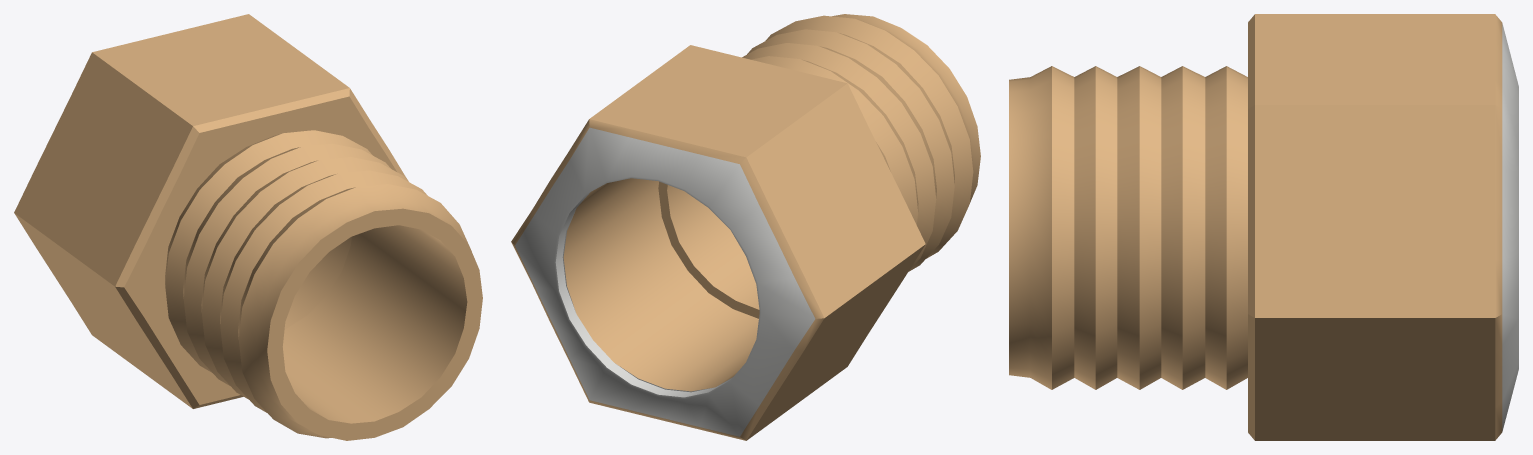
File: slab_pipes_supply__plumbing-copper_and_water-city_filter.glb
3 views of the same model, side by side, from view 1: azimuth 30°, elevation 25°; view 2: azimuth 150°, elevation 25°; view 3: azimuth 270°, elevation 25° (orthographic). The views are drawn at different scales.
Visible parts, largest first — view 1: fit_port_adapter_pipe_supply_house_entry__copper; view 2: fit_port_adapter_pipe_supply_house_entry__copper; view 3: fit_port_adapter_pipe_supply_house_entry__copper.
Boxes of the visible parts, left/top/right/bottom form: fit_port_adapter_pipe_supply_house_entry__copper: left=14, top=14, right=482, bottom=440; fit_port_adapter_pipe_supply_house_entry__copper: left=511, top=14, right=980, bottom=440; fit_port_adapter_pipe_supply_house_entry__copper: left=1009, top=14, right=1518, bottom=440.
Bounding box in the file's own units: 0.0441 × 0.0381 × 0.0524.
